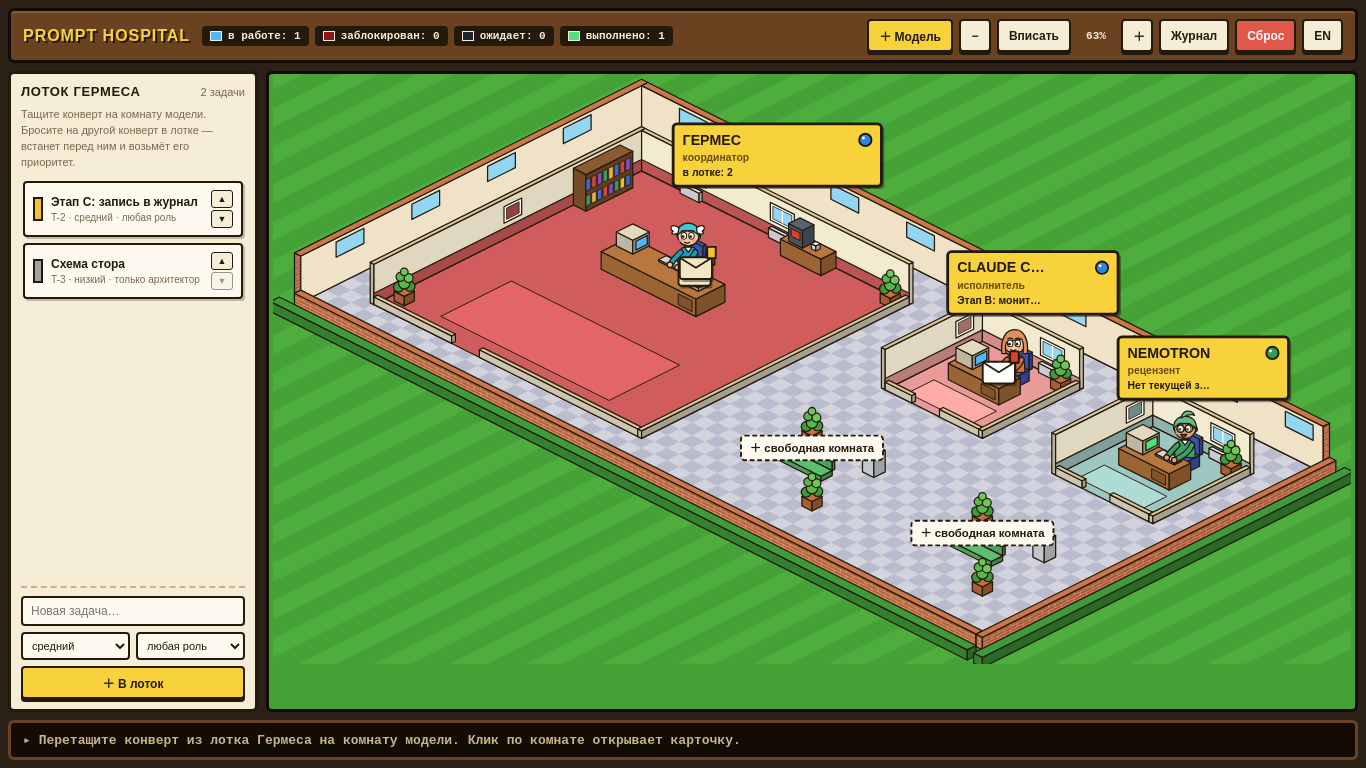
Test: App: запись в журнал оркестратора (check → POST /op → journal) › отказ сервера {ok:false, err} — в MessageBar, журнал не меняется, запись остаётся доступной
Press the mouse on the list item "Этап C: запись в журнал T-2 · средний · любая роль ▲ ▼" at (133, 209), box [23,181,243,237]
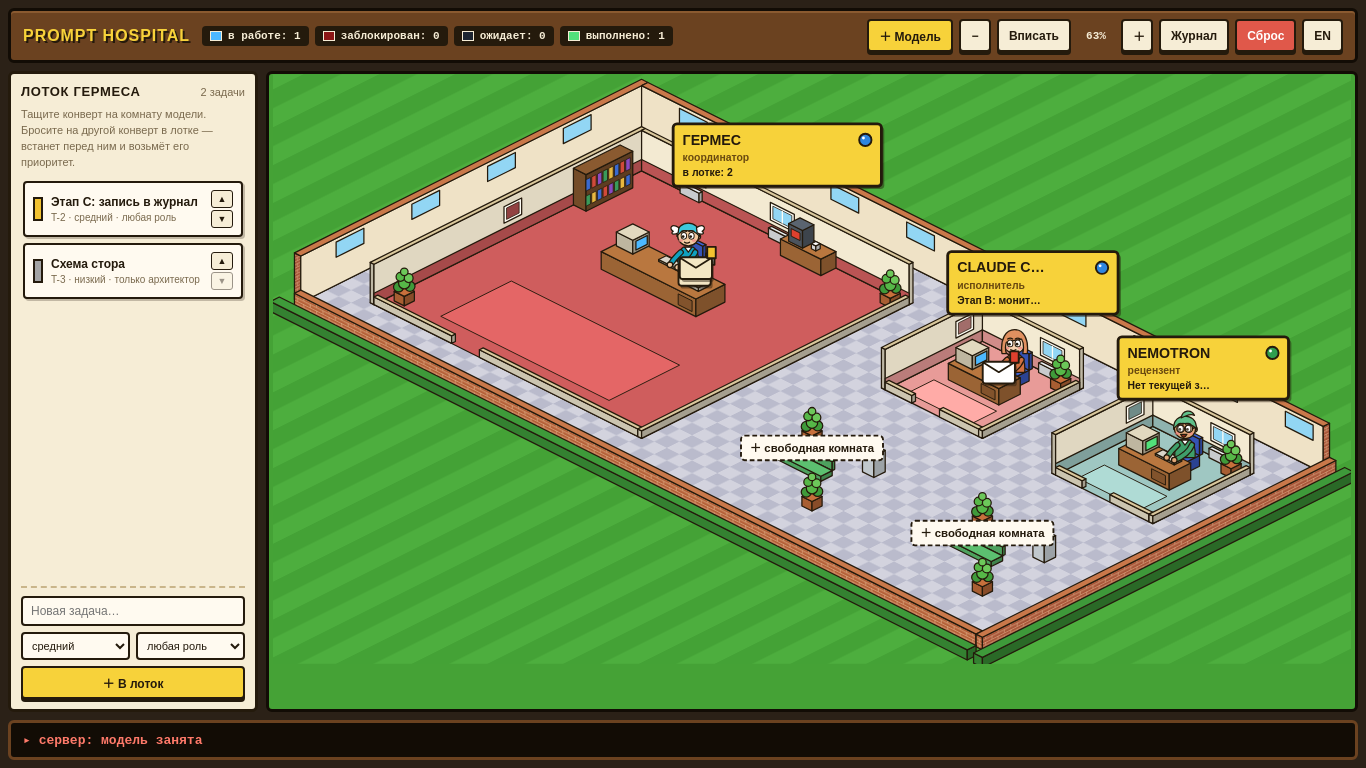
Now the message shows "сервер: модель занята", box [39,733,202,748]
